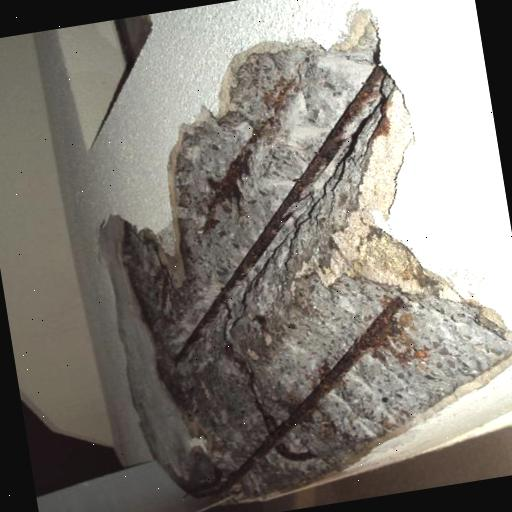spalling: (92, 7, 512, 500)
